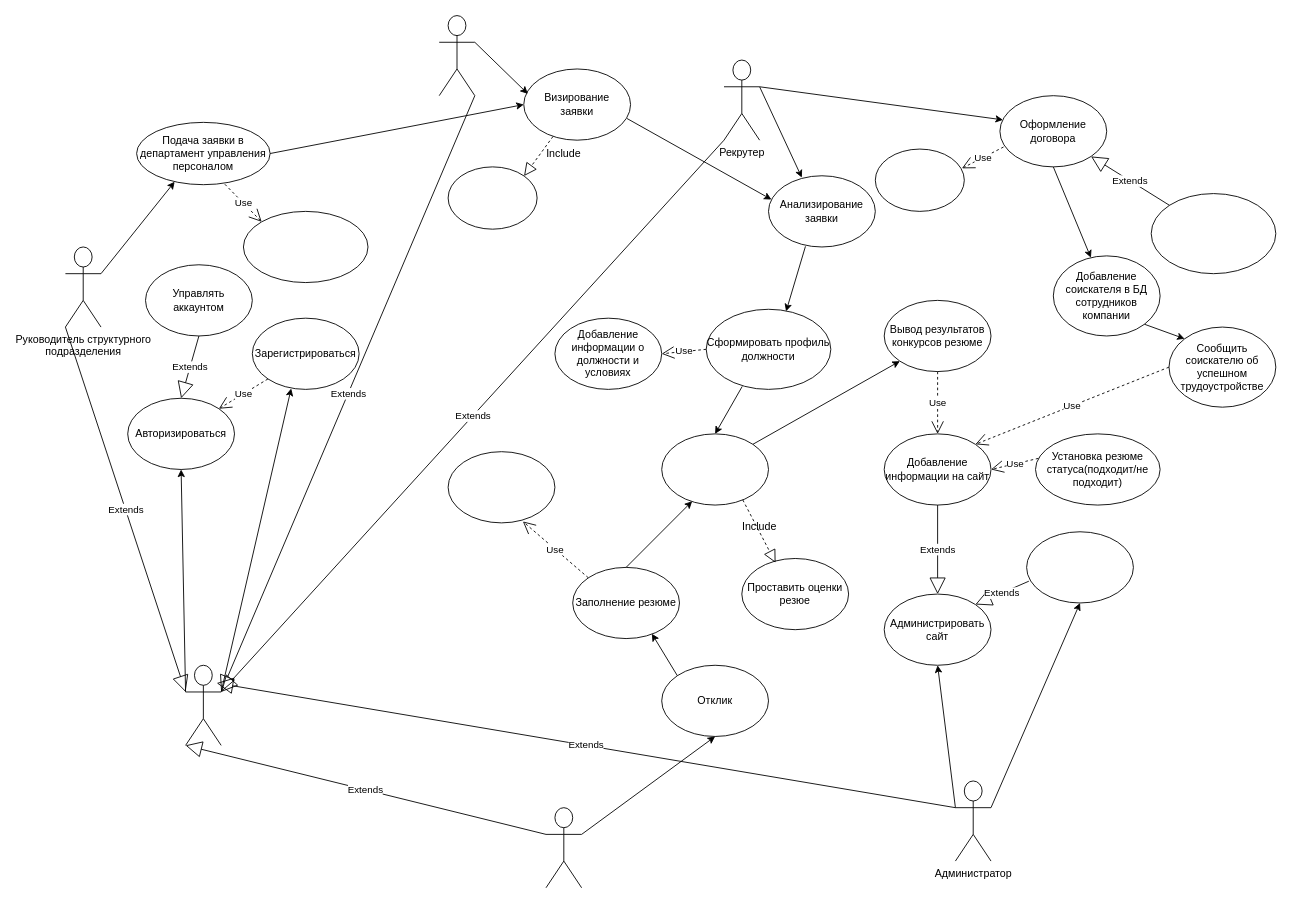
The diagram is 1291 pixels wide and 922 high, and some of its shapes have lost their labels. The centre of each missing label's shape, as x and y in pixels:
"Директор" belongs at (x=456, y=55).
"Заполнение бланка заявки на подбор кандидатов" belongs at (x=305, y=246).
"Заполнение формы" belongs at (x=919, y=179).
"Заполнение формы с данными" belongs at (x=501, y=487).
"Подтверждение заявки(подпись)" belongs at (x=492, y=197).
"Пользователь" belongs at (x=203, y=704).
"Проведение конкурса" belongs at (x=715, y=469).
"Проверить данные о соискателе (СБ)" belongs at (x=1213, y=233).
"Создание рекламы" belongs at (x=1079, y=567).
"Соискатель" belongs at (x=563, y=847).
